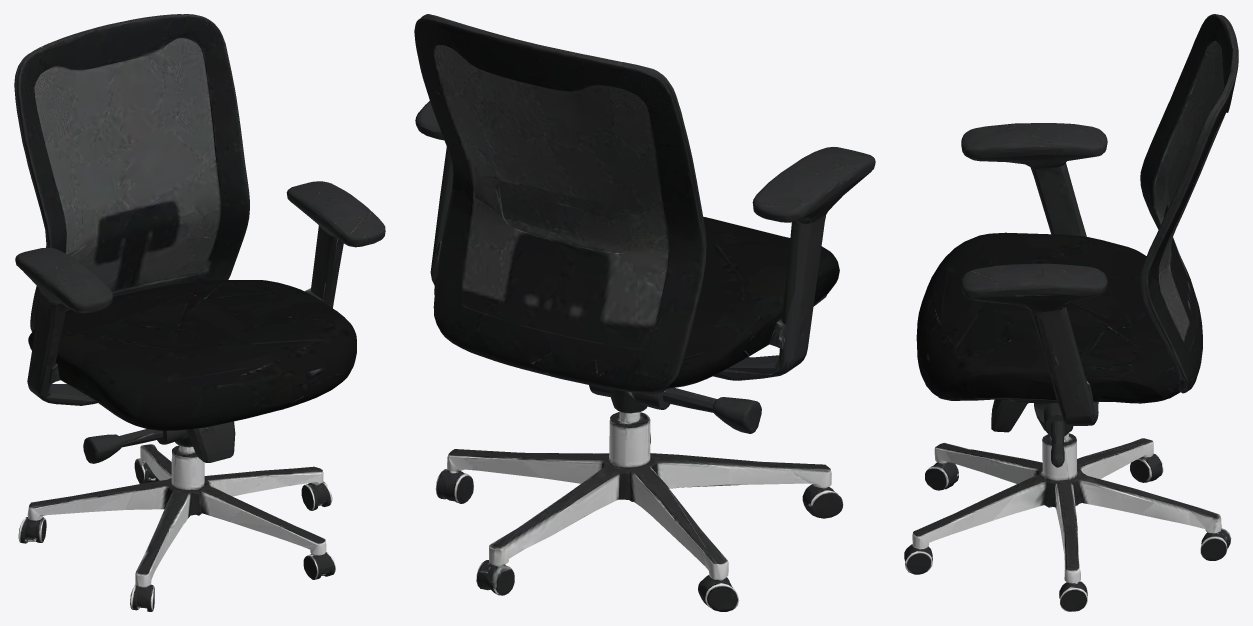
The model's file is chair.glb.
The picture shows the model from 3 angles, left to right: view 1: azimuth 30°, elevation 25°; view 2: azimuth 150°, elevation 25°; view 3: azimuth 270°, elevation 25°; orthographic projection. The views are drawn at different scales.
Bounding box in the file's own units: 1.38 × 1.9 × 1.19.
Materials: 1 (1 with a texture image).
